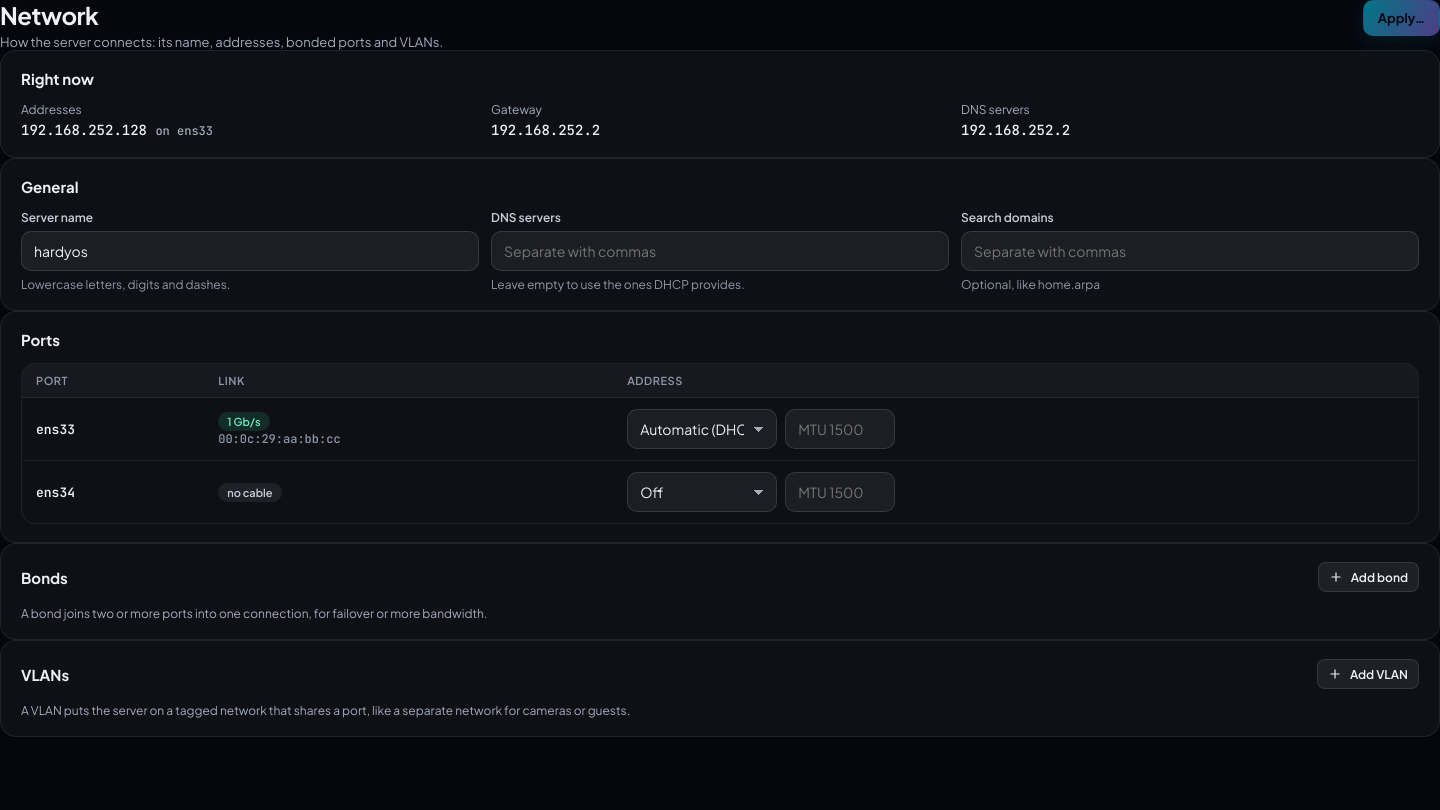
Scenario: Network › shows the current setup and applies a fixed address, warning that this page moves
Check: the field showing "hardyos" is shown, box [21,231,479,271]
Check: the text "1 Gb/s" is shown, box [218,412,270,430]
Select "Fixed address" in the dropdown named "How ens33 gets its address" at {"x": 702, "y": 429}, box [627,409,777,449]
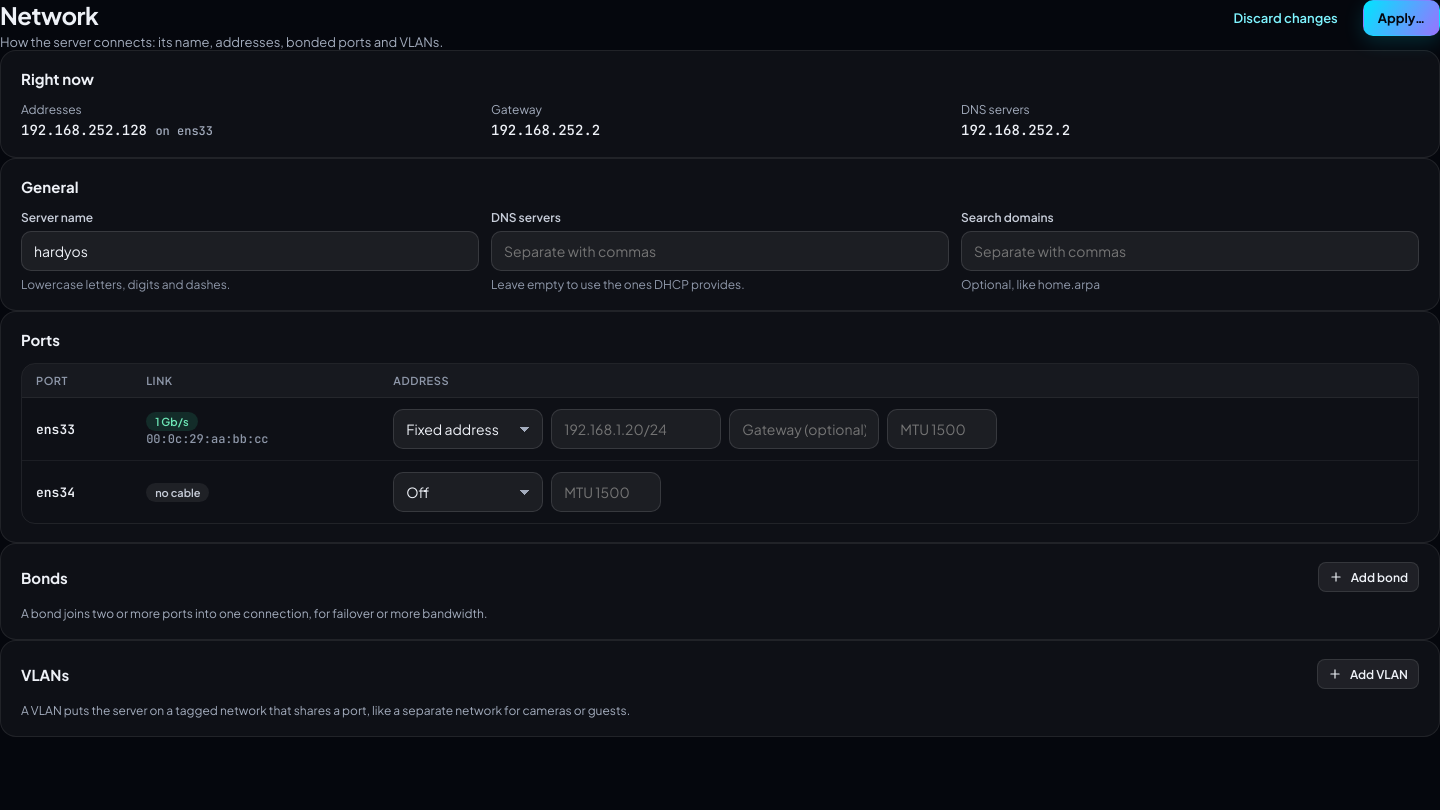
Type "192.168.252.50/24" into the field named "ens33 address" at {"x": 636, "y": 429}, box [551,409,721,449]
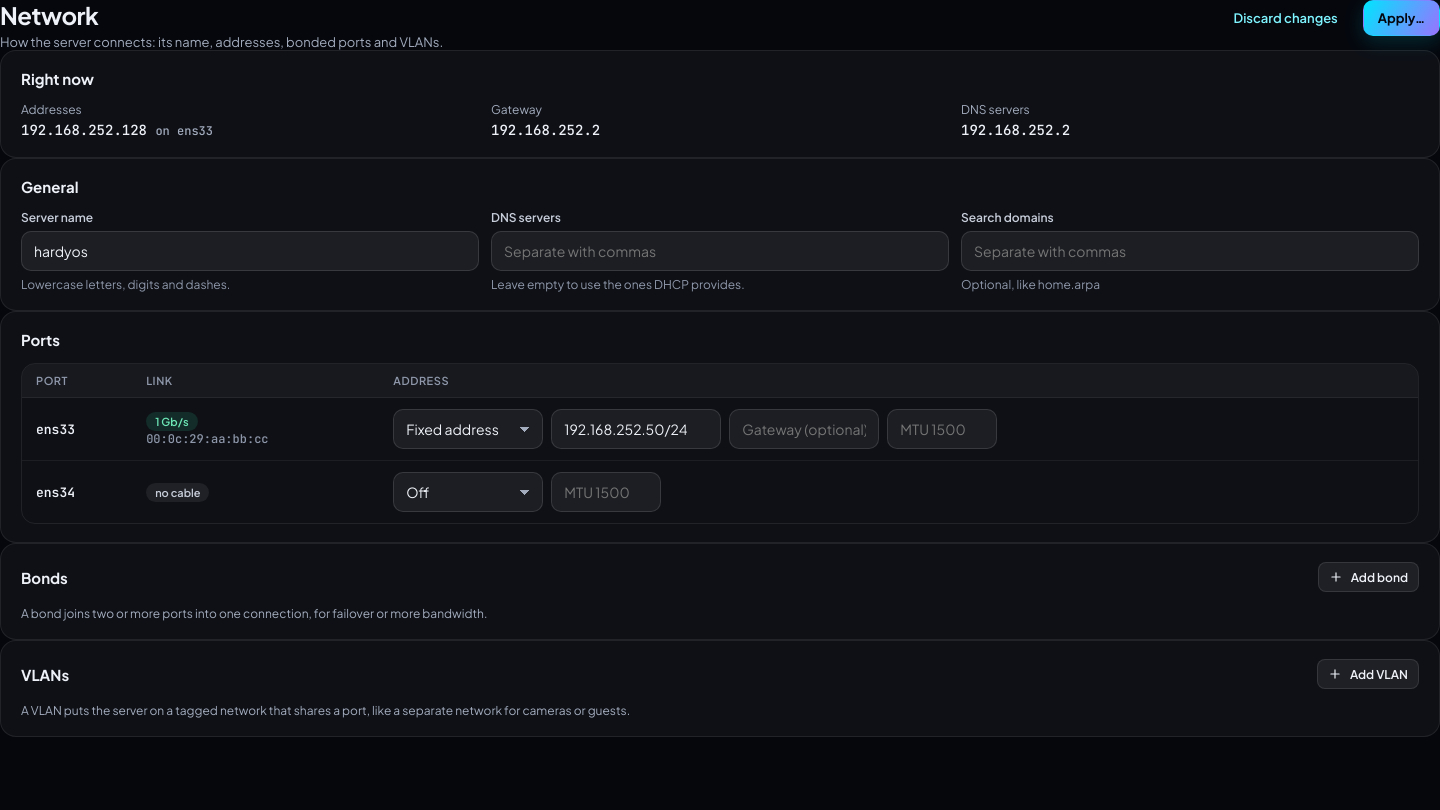
Type "192.168.252.2" into the field named "ens33 gateway" at {"x": 804, "y": 429}, box [729,409,879,449]
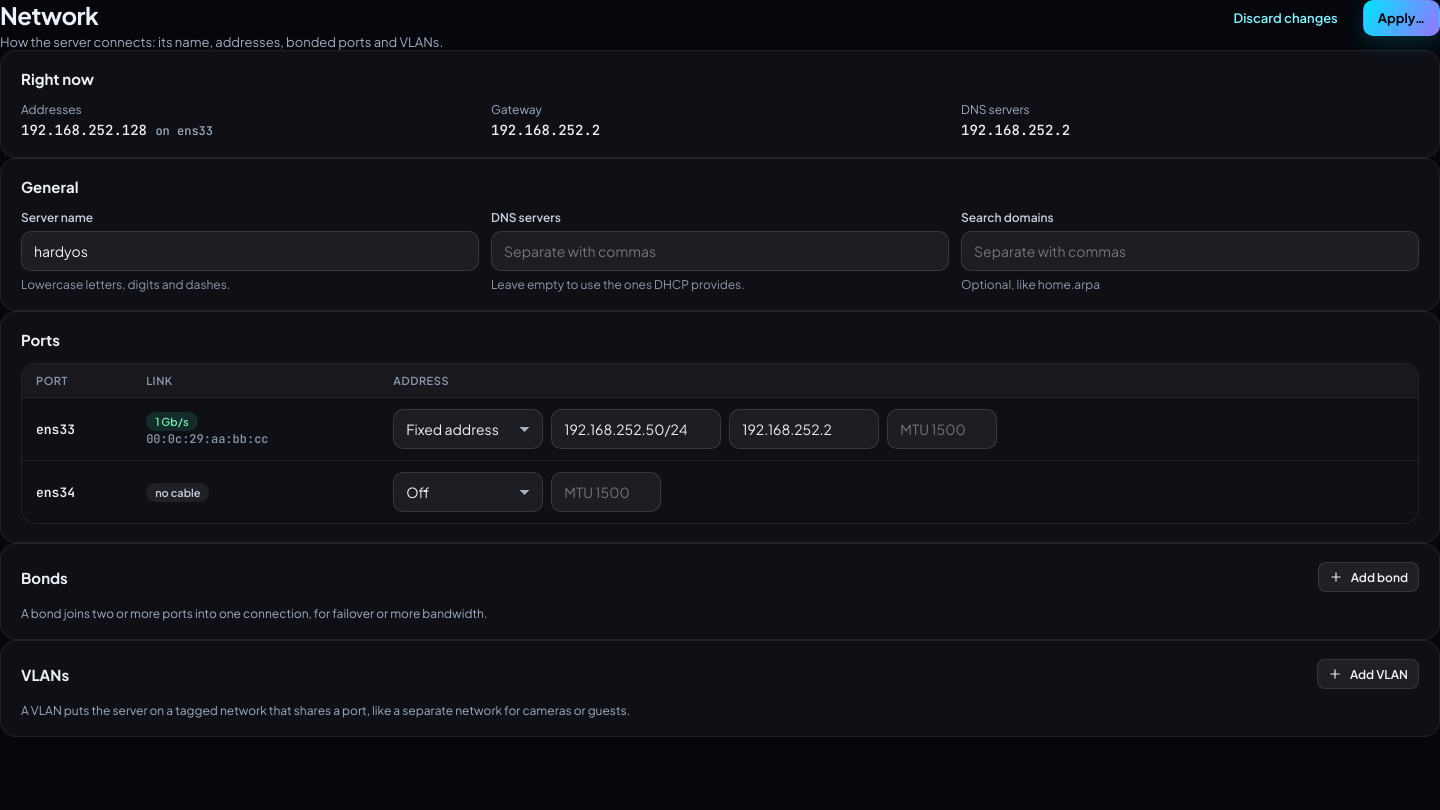
Type "192.168.252.2, 1.1.1.1" into the field labelled "DNS servers" at {"x": 720, "y": 251}, box [491,231,949,271]
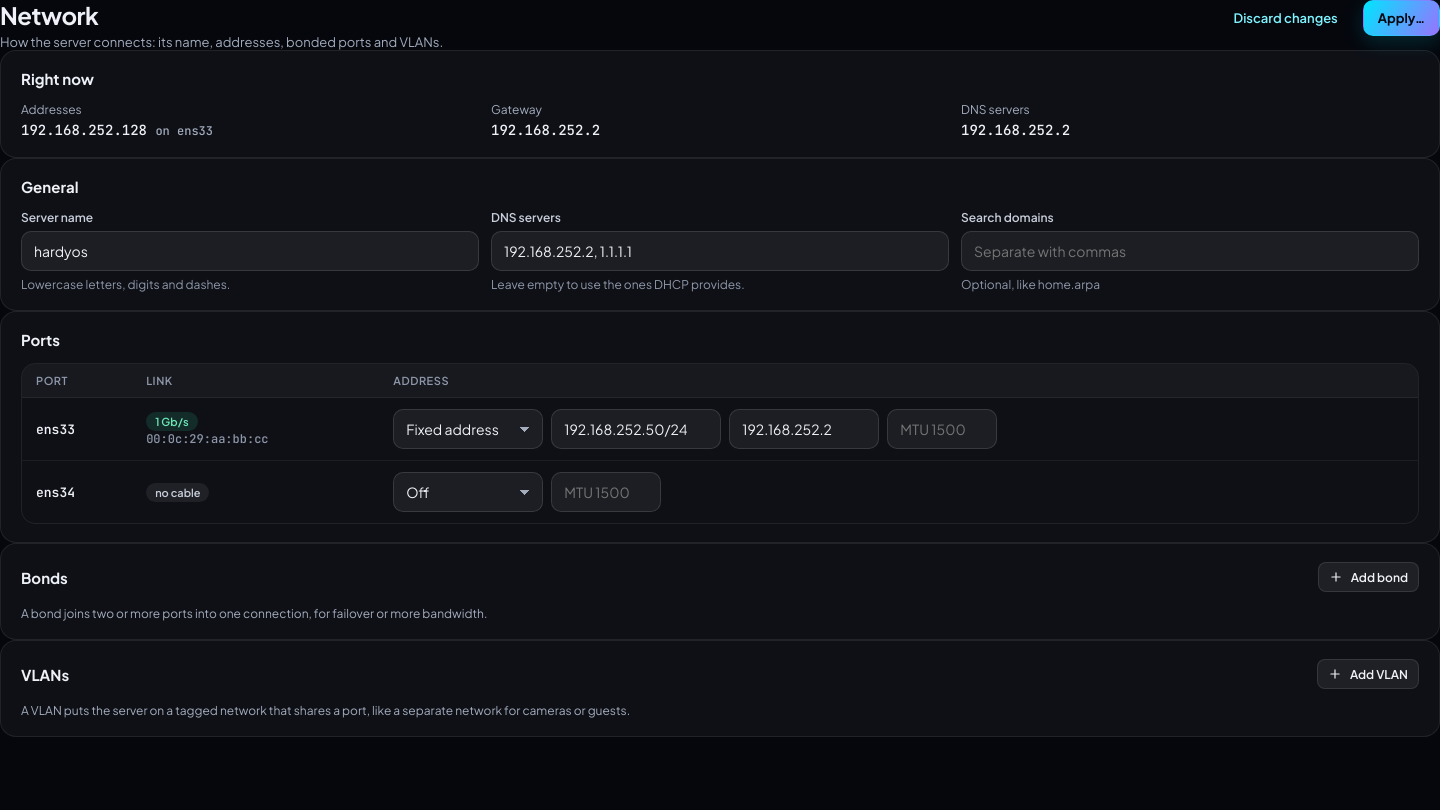
Check: the button "Apply…" is enabled
Click the button "Apply…" at {"x": 1401, "y": 18}, box [1363,0,1439,36]
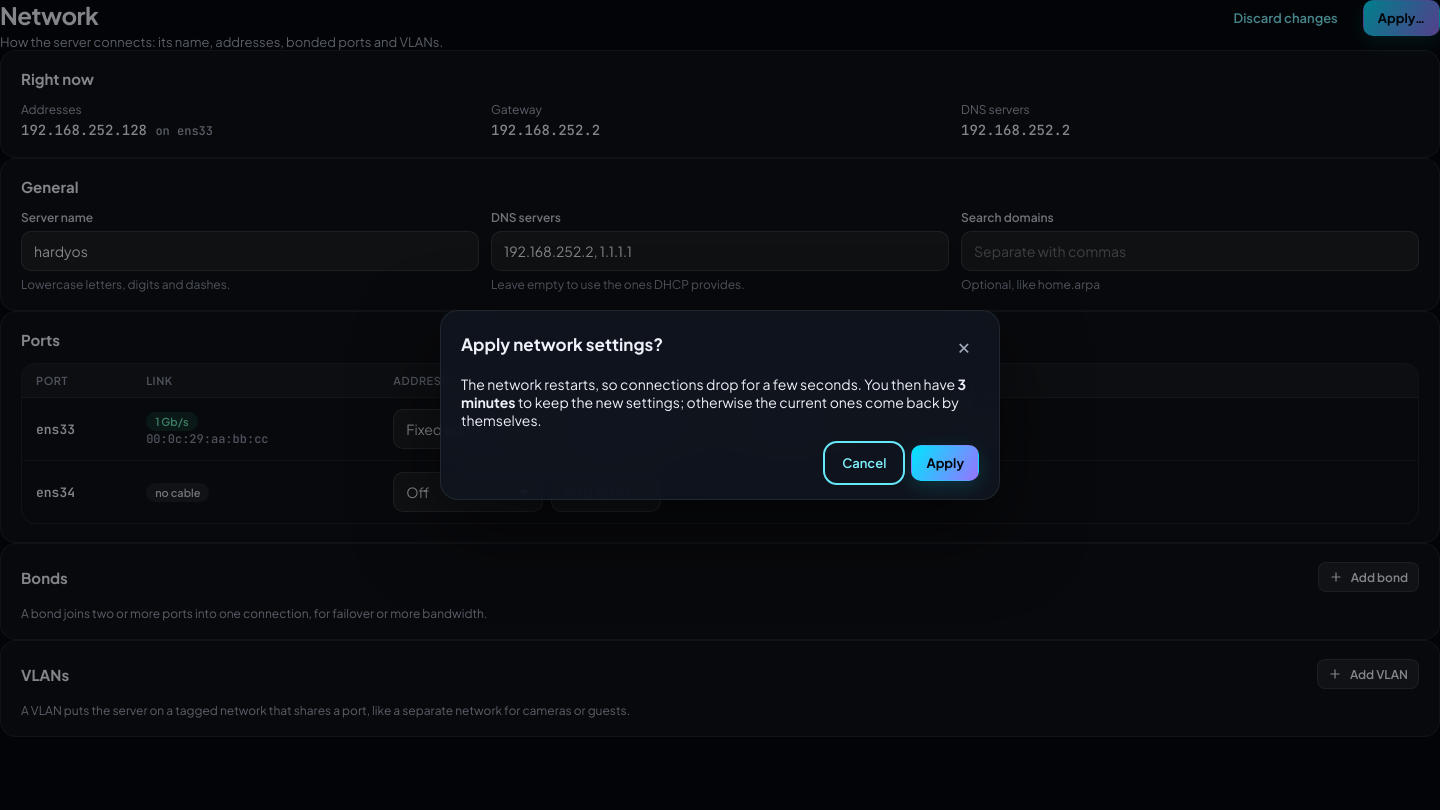
Check: the text "3 minutes" is shown, box [461,375,966,411]
Click the button "Apply" at {"x": 945, "y": 463}, box [911,445,979,481]
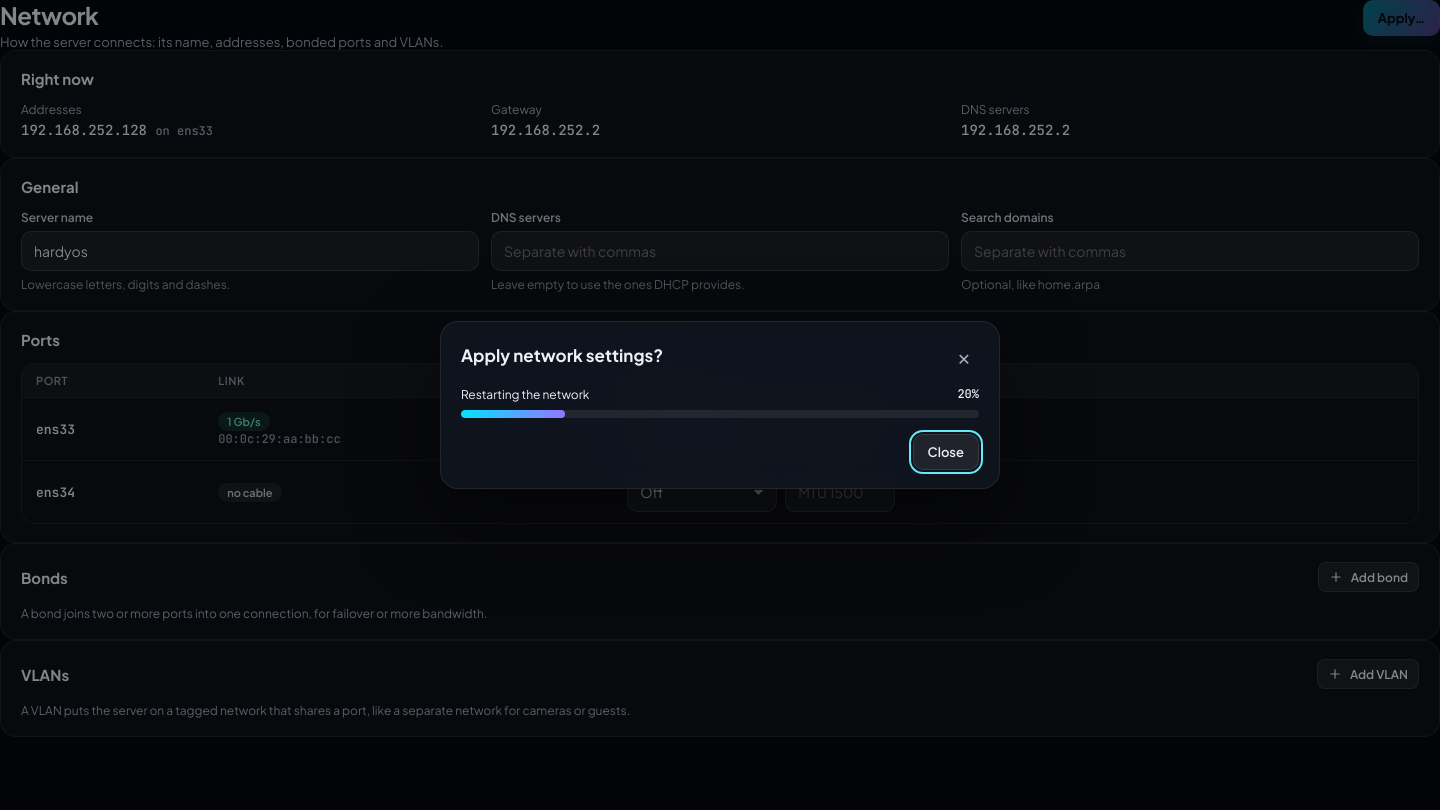
Check: the text "Restarting the network" is shown, box [461,386,589,402]
